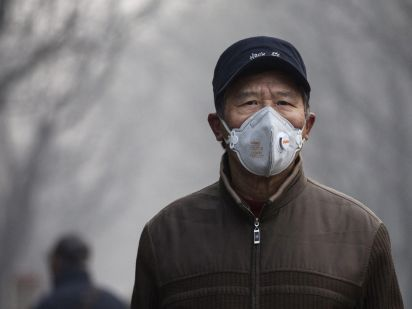n95: (222, 104, 309, 180)
